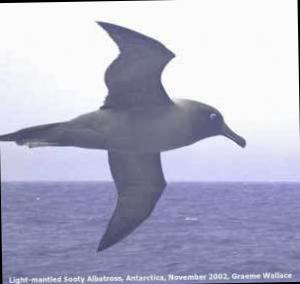bird: (2, 12, 254, 258)
